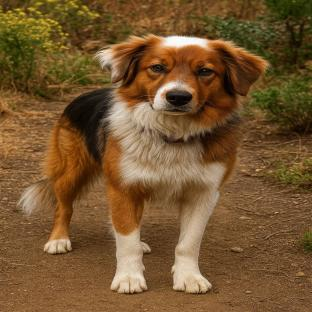Animal: (19, 35, 267, 293)
